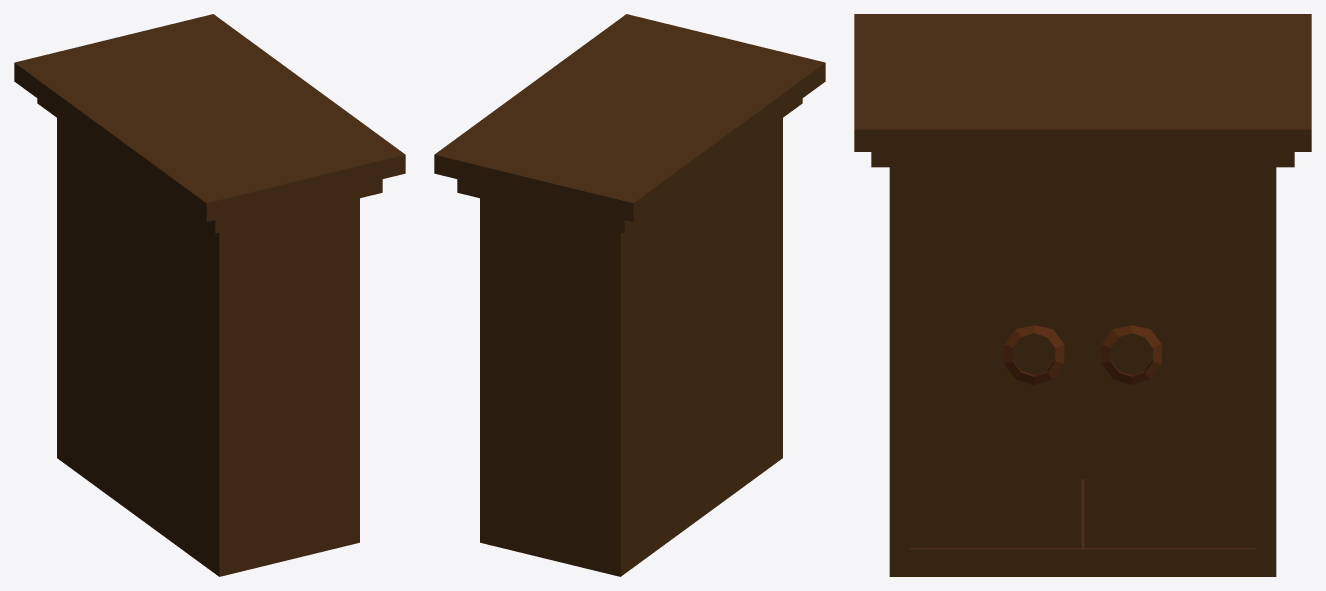
Rendered from Wardrobe.glb.
The picture shows the model from 3 angles, left to right: view 1: azimuth 30°, elevation 25°; view 2: azimuth 150°, elevation 25°; view 3: azimuth 270°, elevation 25°; orthographic projection. The views are drawn at different scales.
Visible parts, largest first — view 1: Wardrobe; view 2: Wardrobe; view 3: Wardrobe.
Part boxes in pixels (x1=…): Wardrobe: x1=14, y1=14, x2=405, y2=576; Wardrobe: x1=434, y1=14, x2=825, y2=576; Wardrobe: x1=854, y1=14, x2=1311, y2=576.
Size of the model in its own units: 2.18 by 4.09 by 3.64.
